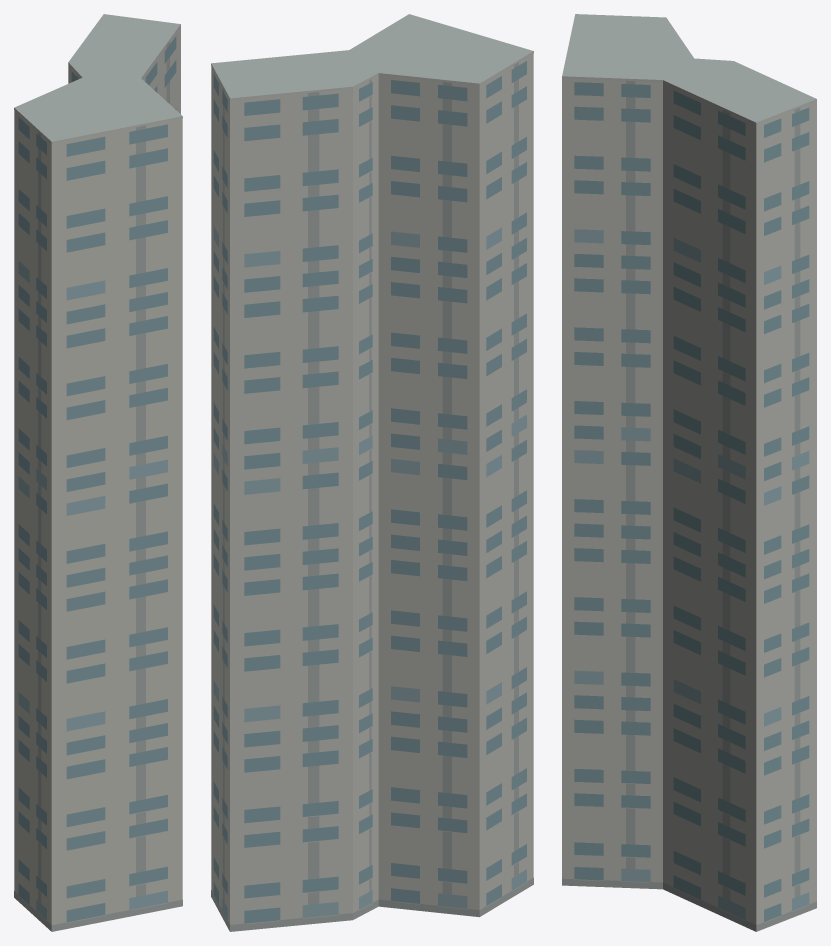
Rendered from residential-9fb19345-abd7-49b5-9c47-80c81b2adbd3.glb.
The picture shows the model from 3 angles, left to right: view 1: azimuth 30°, elevation 25°; view 2: azimuth 150°, elevation 25°; view 3: azimuth 270°, elevation 25°; orthographic projection. The views are drawn at different scales.
Visible parts, largest first — view 1: residential-9fb19345-abd7-49b5-9c47-80c81b2adbd3.tmp; view 2: residential-9fb19345-abd7-49b5-9c47-80c81b2adbd3.tmp; view 3: residential-9fb19345-abd7-49b5-9c47-80c81b2adbd3.tmp.
Part boxes in pixels (x1=…): residential-9fb19345-abd7-49b5-9c47-80c81b2adbd3.tmp: x1=14, y1=14, x2=182, y2=931; residential-9fb19345-abd7-49b5-9c47-80c81b2adbd3.tmp: x1=211, y1=14, x2=533, y2=931; residential-9fb19345-abd7-49b5-9c47-80c81b2adbd3.tmp: x1=562, y1=14, x2=816, y2=931.
Bounding box in the file's own units: 27.37 × 95 × 27.13.
